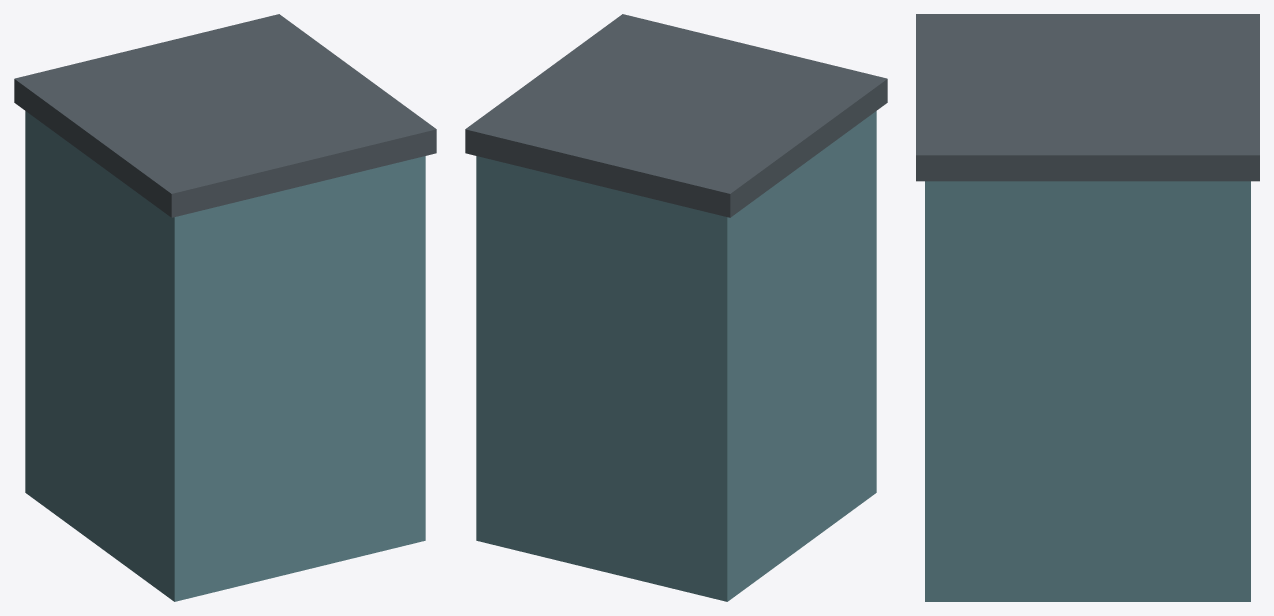
The model's file is iz2_water_cistern_collapsible.glb.
3 views of the same model, side by side, from view 1: azimuth 30°, elevation 25°; view 2: azimuth 150°, elevation 25°; view 3: azimuth 270°, elevation 25° (orthographic). The views are drawn at different scales.
Parts seen in each view (by area): view 1: body; view 2: body; view 3: body.
Part boxes in pixels (left/top/right/bottom): body: left=14, top=14, right=436, bottom=601; body: left=465, top=14, right=887, bottom=601; body: left=916, top=14, right=1259, bottom=601.
Bounding box in the file's own units: 0.9415 × 1.4 × 0.969.
